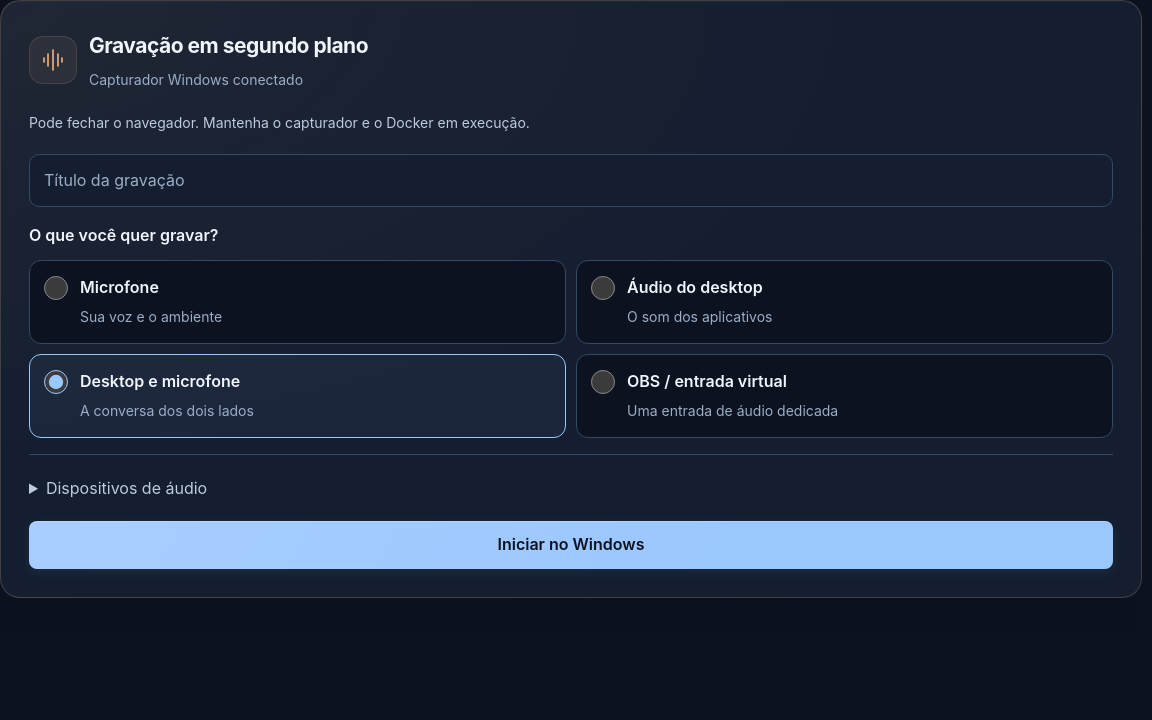
ignores a status response requested before the start command
Click the button "Iniciar no Windows": (571, 545) x1=29 y1=521 x2=1113 y2=569
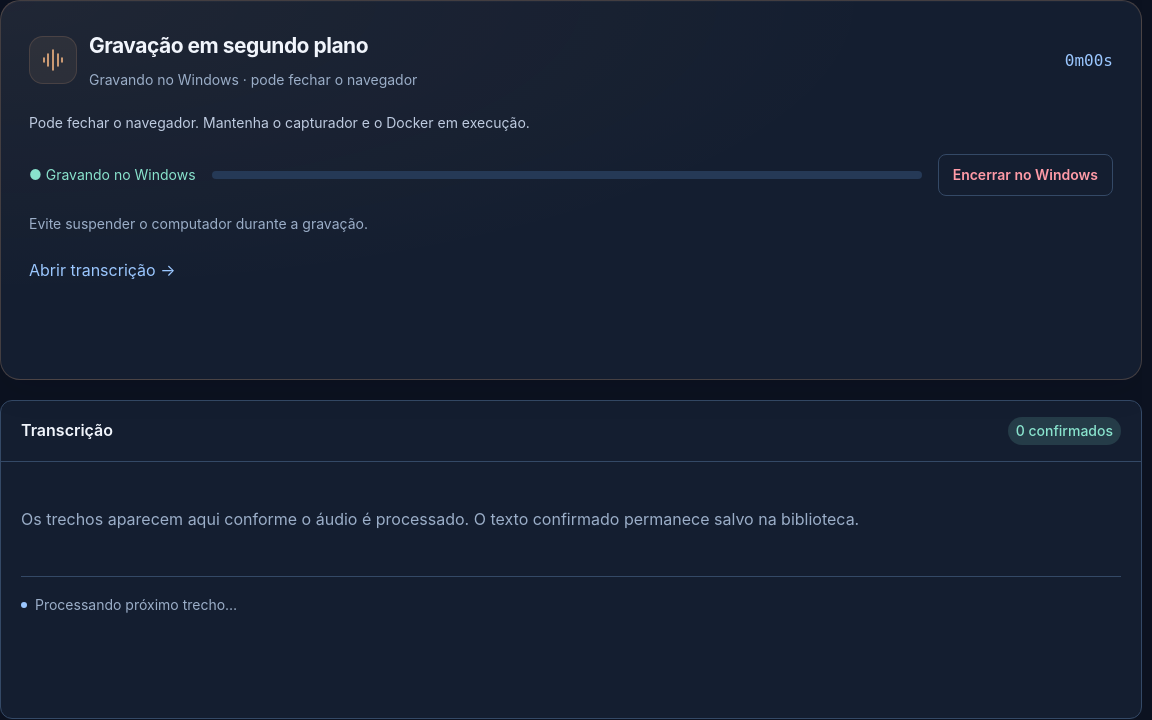
Check: the button "Encerrar no Windows" is shown, box x1=938 y1=154 x2=1113 y2=196
